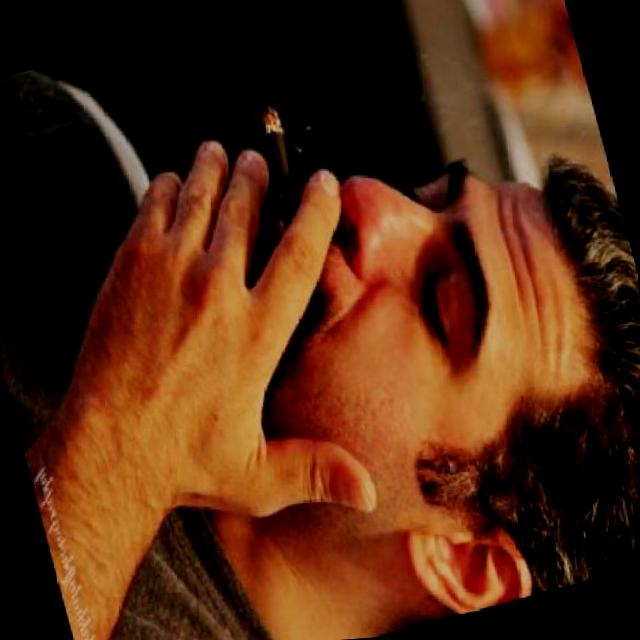cigarette: (250, 94, 313, 240)
